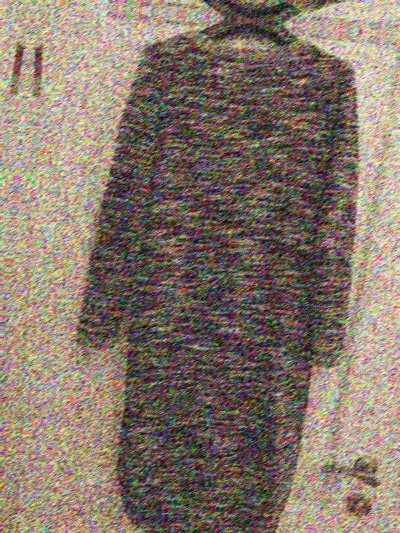Dress: (31, 11, 400, 533), (82, 0, 400, 28)
